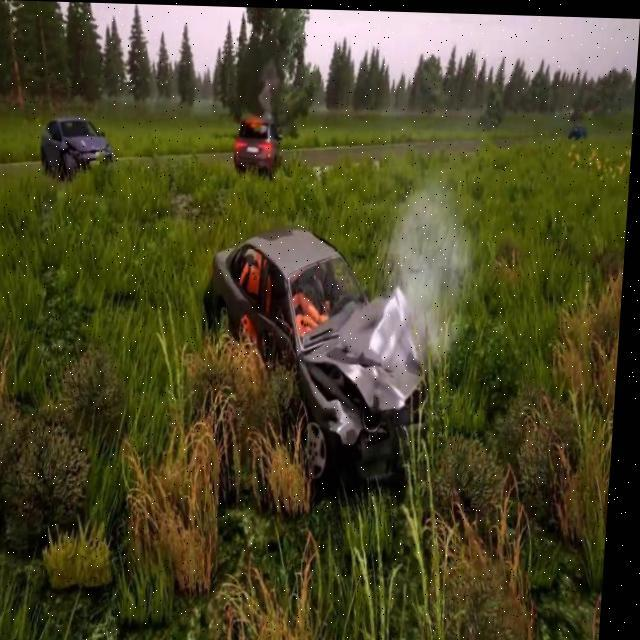multiple_accident: (130, 195, 480, 510), (22, 88, 320, 193)
